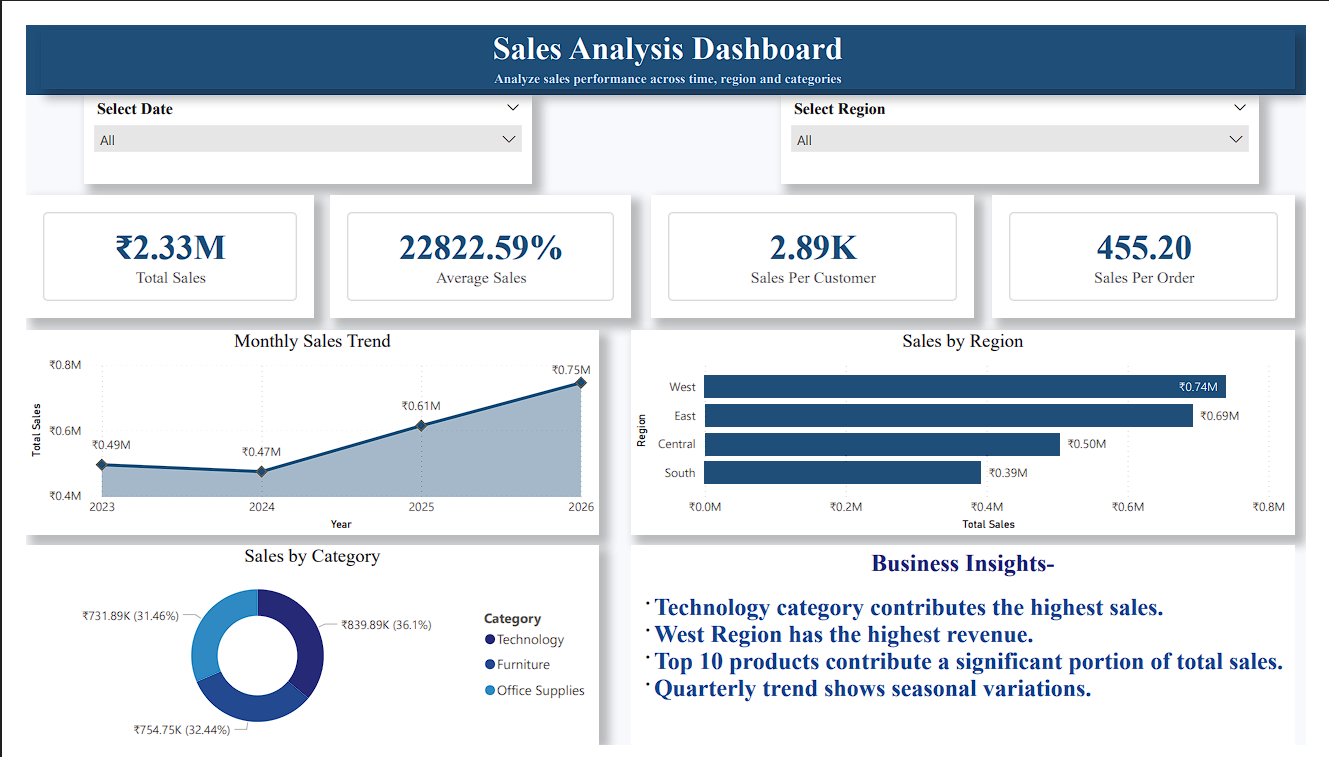

The page's visual inventory and layout, read from the dashboard file:
{"tool":"powerbi","page":{"name":"📈 Sales Analysis","canvas":[1280,720],"ordinal":1},"visuals":[{"type":"slicer","fields":{"Values":["Dim_Date.Date"]},"box":[57.5,70,448.8,88.8],"z":0},{"type":"slicer","title":"vb","fields":{"Values":["Fact_Sales.Region"]},"box":[755,70,477.5,88.8],"z":1000},{"type":"shape","box":[0,0,1280,70],"z":2000},{"type":"textbox","title":"Sales Analysis Dashboard","box":[15,5,1253.8,58.8],"z":3000},{"type":"cardVisual","title":"Total Sales","fields":{"Data":["Fact_Sales.Total Sales"]},"box":[0,170,287.5,122.5],"z":4000},{"type":"cardVisual","fields":{"Data":["Fact_Sales.Average Sales"]},"box":[303.8,170,301.2,122.5],"z":5000},{"type":"cardVisual","fields":{"Data":["Fact_Sales.Sales Per Customer"]},"box":[625,170,322.5,122.5],"z":6000},{"type":"cardVisual","fields":{"Data":["Fact_Sales.Sales Per Order"]},"box":[966.2,170,302.5,122.5],"z":7000},{"type":"lineChart","title":"Monthly Sales Trend","fields":{"Y":["Fact_Sales.Total Sales"],"Category":["Dim_Date.Year"]},"box":[0,305,572.5,205],"z":8000},{"type":"donutChart","title":"Sales by Category","fields":{"Category":["Fact_Sales.Category"],"Y":["Fact_Sales.Total Sales"]},"box":[0,520,572.5,200],"z":9000},{"type":"clusteredBarChart","title":"Sales by Region","fields":{"Category":["Fact_Sales.Region"],"Y":["Fact_Sales.Total Sales"]},"box":[605,305,663.8,205],"z":10000},{"type":"textbox","box":[604.7,519.8,664,200],"z":11000}]}

Visuals, with their boxes in screenshot pixels (x1, y1, x2, y2), scaled from the page's 1280x720 canvas onto the 1329x757 screenshot:
slicer - Dim_Date.Date: locate(60, 74, 526, 167)
"vb" slicer: locate(784, 74, 1280, 167)
shape: locate(0, 0, 1328, 74)
"Sales Analysis Dashboard" textbox: locate(16, 5, 1317, 67)
"Total Sales" cardVisual: locate(0, 179, 299, 308)
cardVisual - Fact_Sales.Average Sales: locate(315, 179, 628, 308)
cardVisual - Fact_Sales.Sales Per Customer: locate(649, 179, 984, 308)
cardVisual - Fact_Sales.Sales Per Order: locate(1003, 179, 1317, 308)
"Monthly Sales Trend" lineChart: locate(0, 321, 594, 536)
"Sales by Category" donutChart: locate(0, 547, 594, 756)
"Sales by Region" clusteredBarChart: locate(628, 321, 1317, 536)
textbox: locate(628, 547, 1317, 756)
